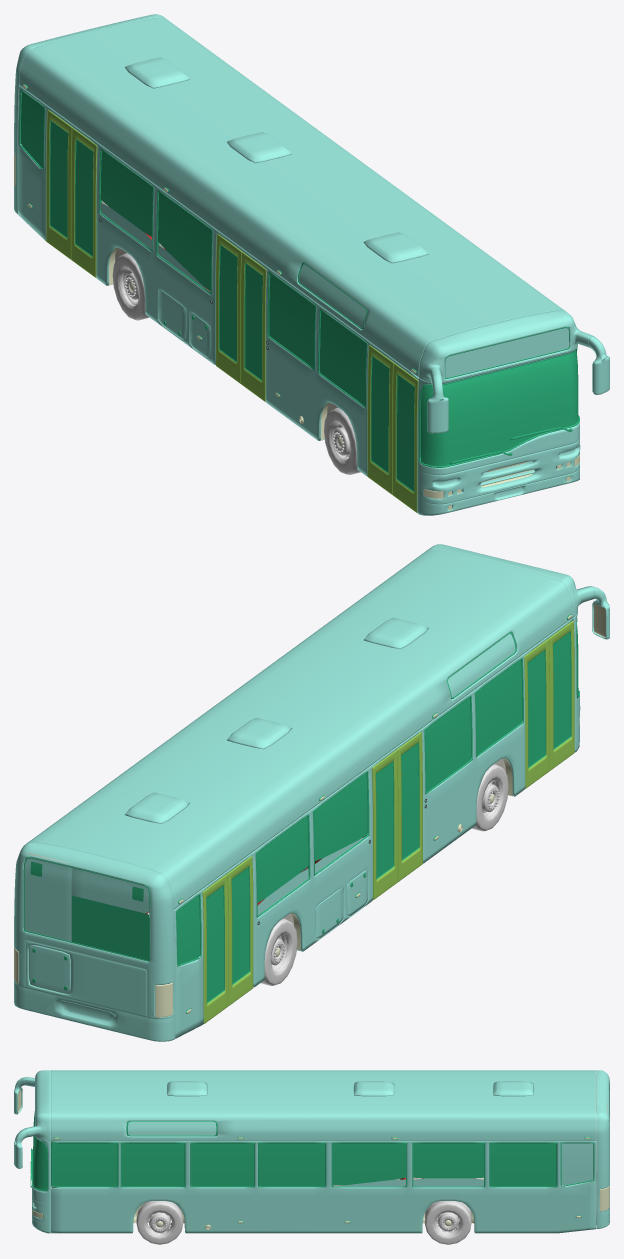
The model's file is bus3.gltf.
3 views of the same model, one above another, from view 1: azimuth 30°, elevation 25°; view 2: azimuth 150°, elevation 25°; view 3: azimuth 270°, elevation 25° (orthographic). The views are drawn at different scales.
Parts seen in each view (by area): view 1: Object__1, Object__8, Object__5, Object__0, Object__7, Object__9; view 2: Object__1, Object__8, Object__5, Object__7, Object__9, Object__0; view 3: Object__1, Object__8, Object__7, Object__0, Object__9.
Part boxes in pixels (x1=…): Object__1: x1=14, y1=14, x2=609, y2=515; Object__8: x1=19, y1=83, x2=579, y2=492; Object__5: x1=46, y1=110, x2=418, y2=512; Object__0: x1=323, y1=407, x2=360, y2=474; Object__7: x1=112, y1=253, x2=149, y2=320; Object__9: x1=14, y1=84, x2=579, y2=510; Object__1: x1=14, y1=544, x2=609, y2=1041; Object__8: x1=23, y1=614, x2=579, y2=1013; Object__5: x1=202, y1=620, x2=574, y2=1023; Object__7: x1=261, y1=918, x2=297, y2=985; Object__9: x1=14, y1=603, x2=605, y2=1017; Object__0: x1=472, y1=764, x2=508, y2=831; Object__1: x1=14, y1=1070, x2=609, y2=1233; Object__8: x1=30, y1=1082, x2=609, y2=1223; Object__7: x1=424, y1=1201, x2=471, y2=1244; Object__0: x1=136, y1=1201, x2=183, y2=1244; Object__9: x1=18, y1=1090, x2=609, y2=1229.
Bounding box in the file's own units: 11.92 × 12.34 × 49.72.
Materials: 10 (1 with a texture image).
